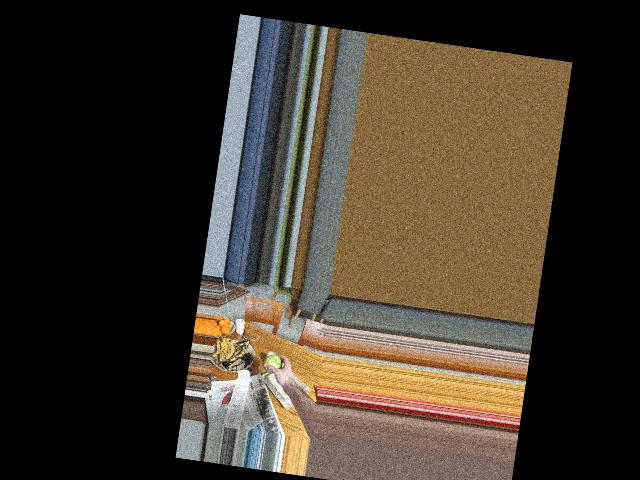apple: (261, 353, 287, 382)
